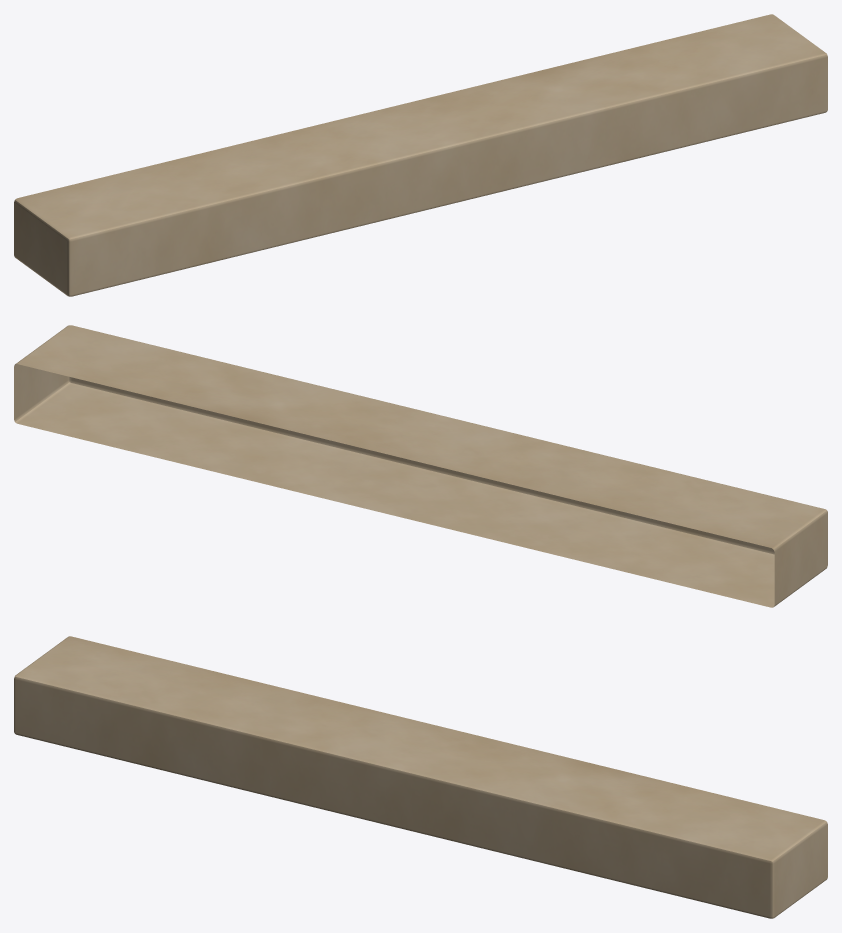
File: CorniceA01.fbx
The picture shows the model from 3 angles, top to bottom: view 1: azimuth 30°, elevation 25°; view 2: azimuth 150°, elevation 25°; view 3: azimuth 330°, elevation 25°; orthographic projection.
Visible parts, largest first — view 1: CorniceA01; view 2: CorniceA01; view 3: CorniceA01.
Boxes of the visible parts, x1,y1,x2,y2 form: CorniceA01: (14,14,827,296); CorniceA01: (14,325,827,607); CorniceA01: (14,636,827,918).
Bounding box in the file's own units: 6.1 × 0.4572 × 0.762.
